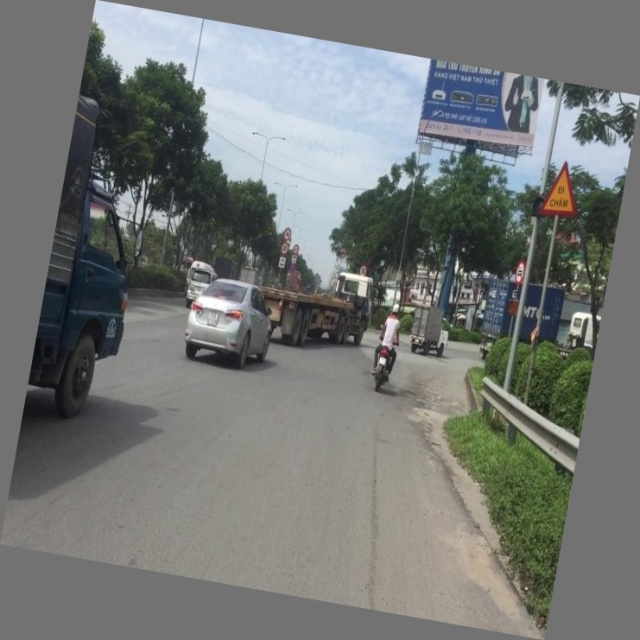P.103a: (513, 257, 528, 290)
W.245a: (537, 157, 588, 223)
